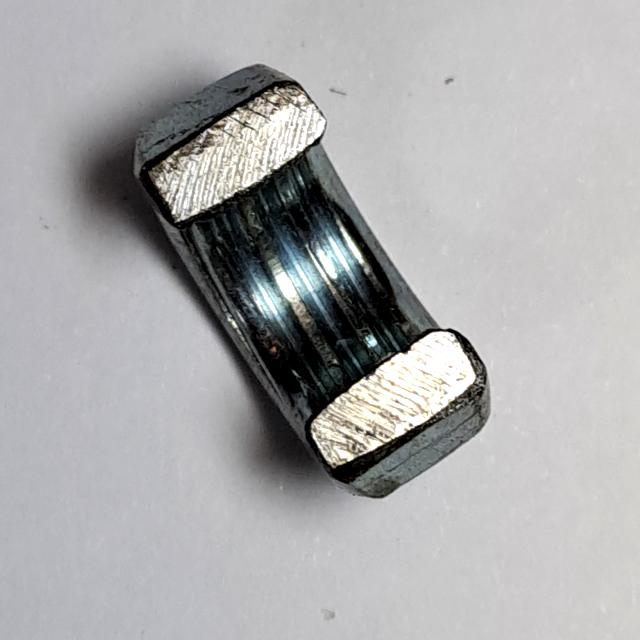Side-Fracture: (122, 55, 501, 506)
